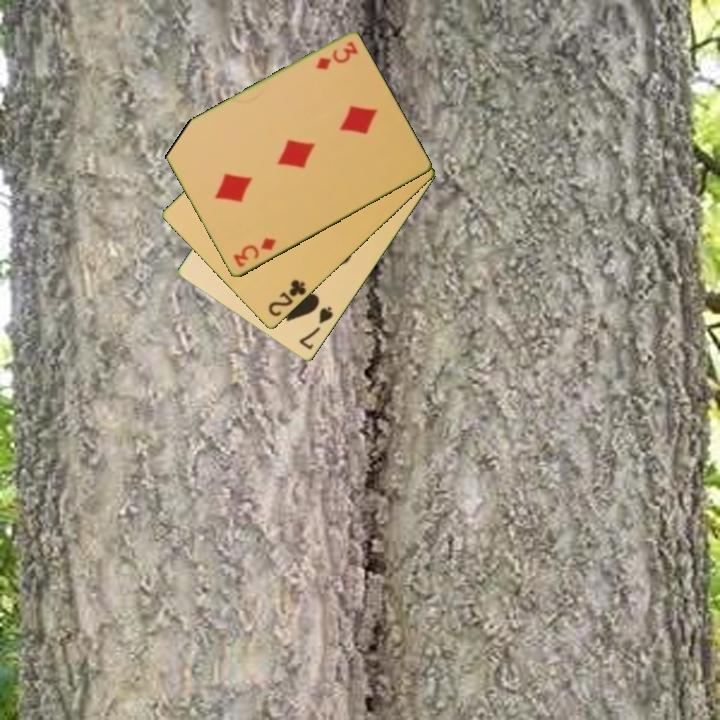2c: (265, 276, 309, 320)
3d: (229, 234, 279, 270), (312, 38, 361, 73)
7s: (295, 303, 336, 353)
